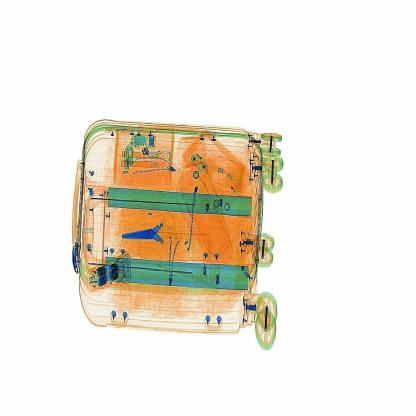gun: (124, 219, 174, 252)
